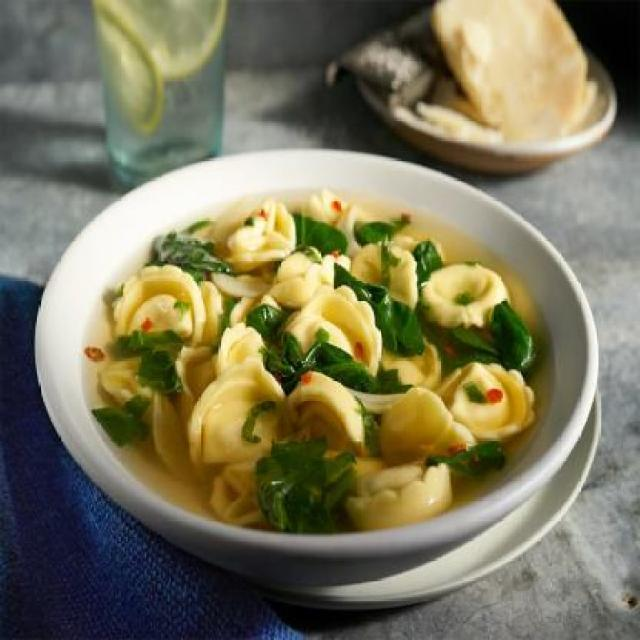Tortellini in broth: (87, 189, 564, 537)
